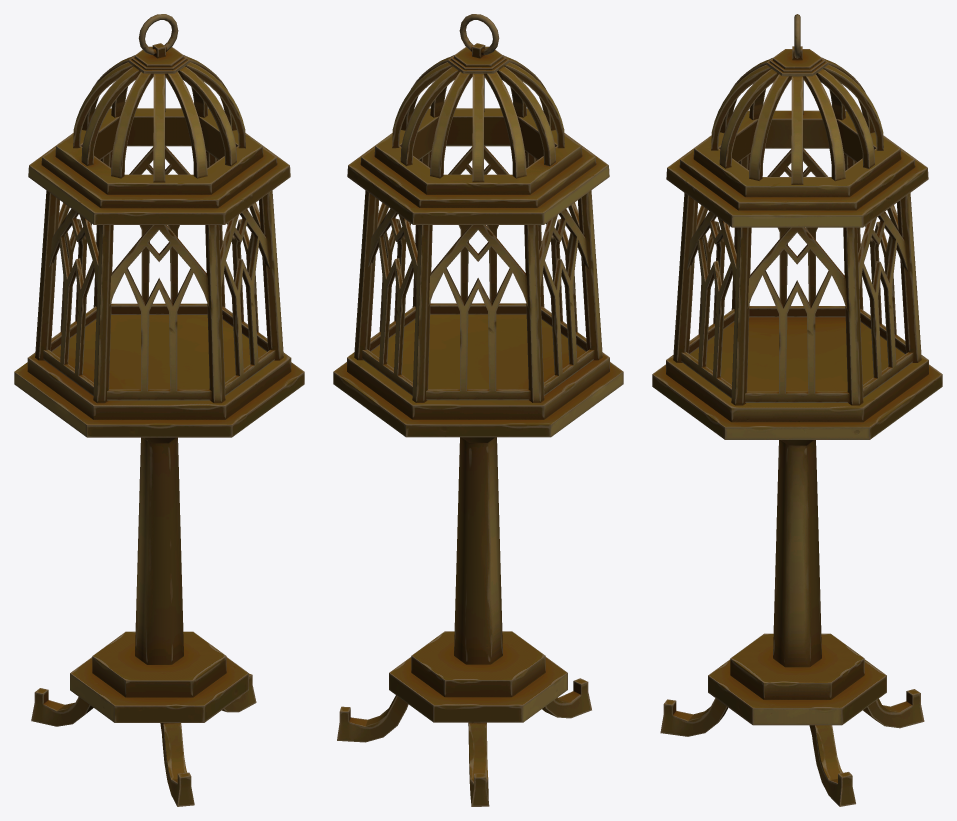
The model's file is SM_Bird_Cage.gltf.
3 views of the same model, side by side, from view 1: azimuth 30°, elevation 25°; view 2: azimuth 150°, elevation 25°; view 3: azimuth 270°, elevation 25° (orthographic).
Visible parts, largest first — view 1: SM_Bird_Cage; view 2: SM_Bird_Cage; view 3: SM_Bird_Cage.
Part boxes in pixels (x1,y1,x2,y2): SM_Bird_Cage: (14, 14, 304, 806); SM_Bird_Cage: (333, 14, 623, 806); SM_Bird_Cage: (652, 14, 942, 806).
Size of the model in its own units: 0.6299 by 1.94 by 0.6978.
1 material, 1 textured.
